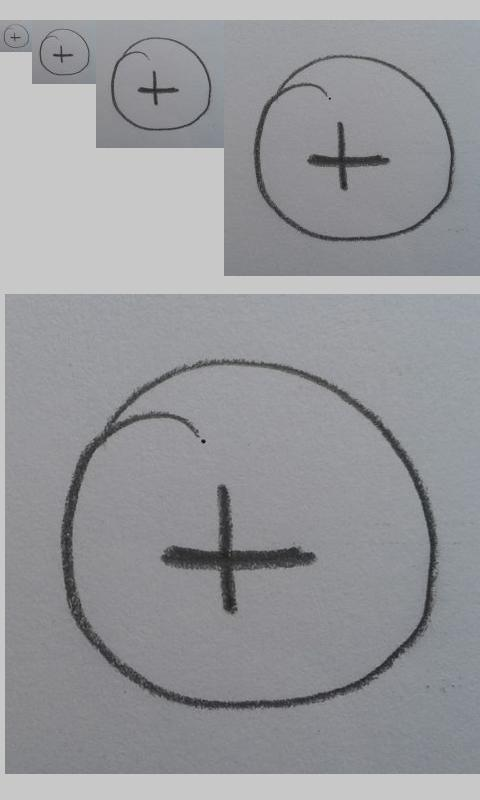button: (56, 356, 439, 711), (252, 53, 455, 243), (110, 37, 212, 132), (39, 28, 90, 76), (3, 23, 30, 49)
